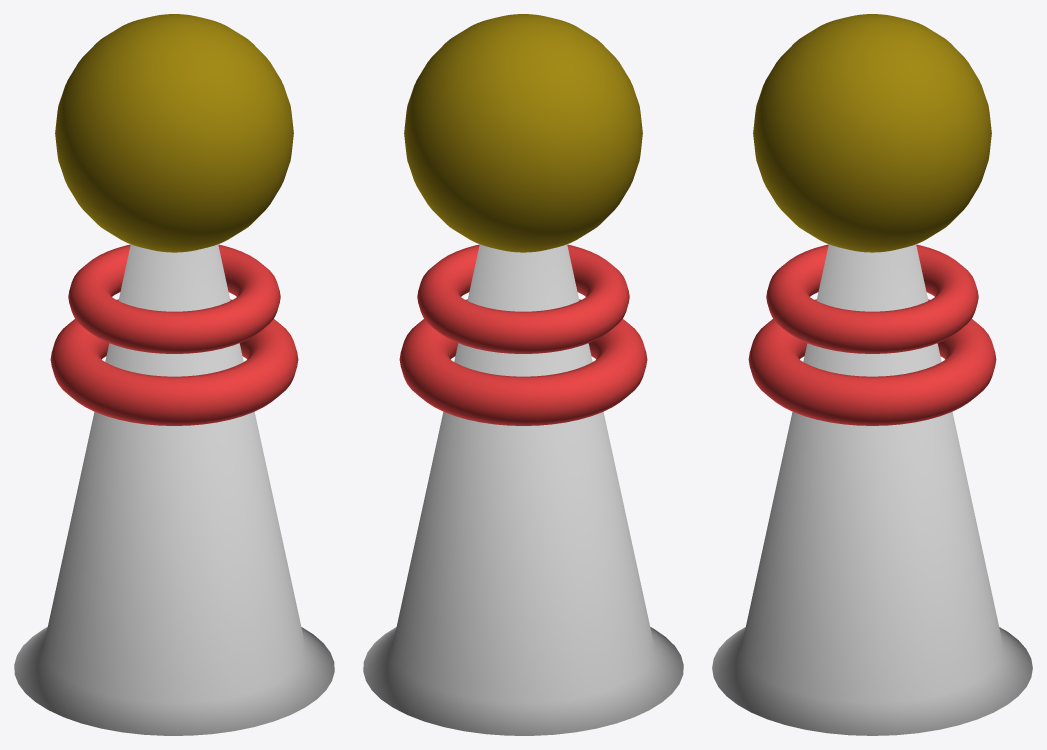
File: Electric node.fbx
3 renders of one model, left to right at view 1: azimuth 30°, elevation 25°; view 2: azimuth 150°, elevation 25°; view 3: azimuth 270°, elevation 25°, orthographic.
Visible parts, largest first — view 1: Cone, Sphere, Torus.001, Torus; view 2: Cone, Sphere, Torus.001, Torus; view 3: Cone, Sphere, Torus.001, Torus.
Boxes of the visible parts, x1,y1,x2,y2 form: Cone: (14, 244, 334, 735); Sphere: (55, 14, 293, 252); Torus.001: (50, 299, 298, 425); Torus: (68, 244, 280, 353); Cone: (363, 244, 683, 735); Sphere: (404, 14, 642, 252); Torus.001: (399, 299, 647, 425); Torus: (417, 244, 629, 353); Cone: (712, 244, 1032, 735); Sphere: (753, 14, 991, 252); Torus.001: (748, 299, 996, 425); Torus: (766, 244, 978, 353).
Bounding box in the file's own units: 94.44 × 209 × 94.44.
